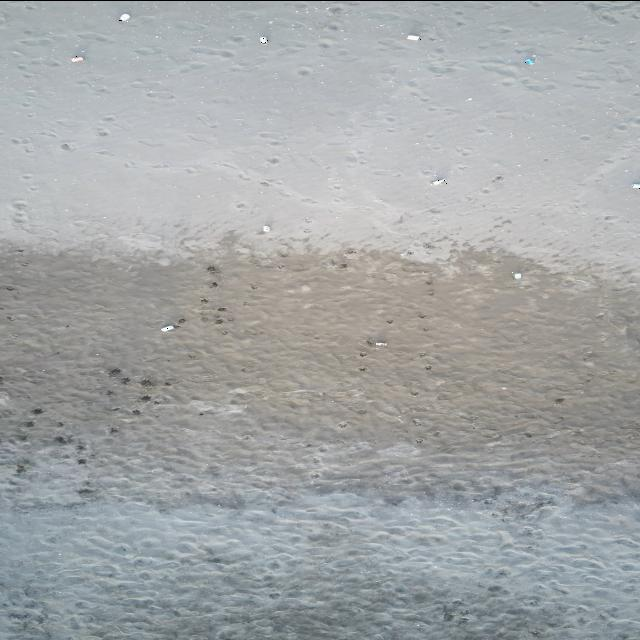Garbage: (366, 337, 386, 346), (160, 324, 175, 331), (525, 55, 535, 64), (71, 55, 83, 62), (408, 33, 420, 40), (433, 178, 446, 184), (119, 12, 128, 20), (375, 340, 387, 346), (336, 420, 346, 427), (262, 224, 270, 232), (512, 272, 521, 279), (260, 35, 267, 43), (632, 181, 639, 188)
